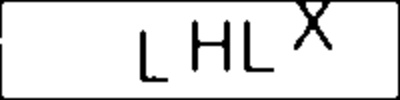H: (183, 18, 236, 75)
L: (132, 27, 178, 88), (240, 15, 280, 75)
X: (290, 1, 339, 55)
